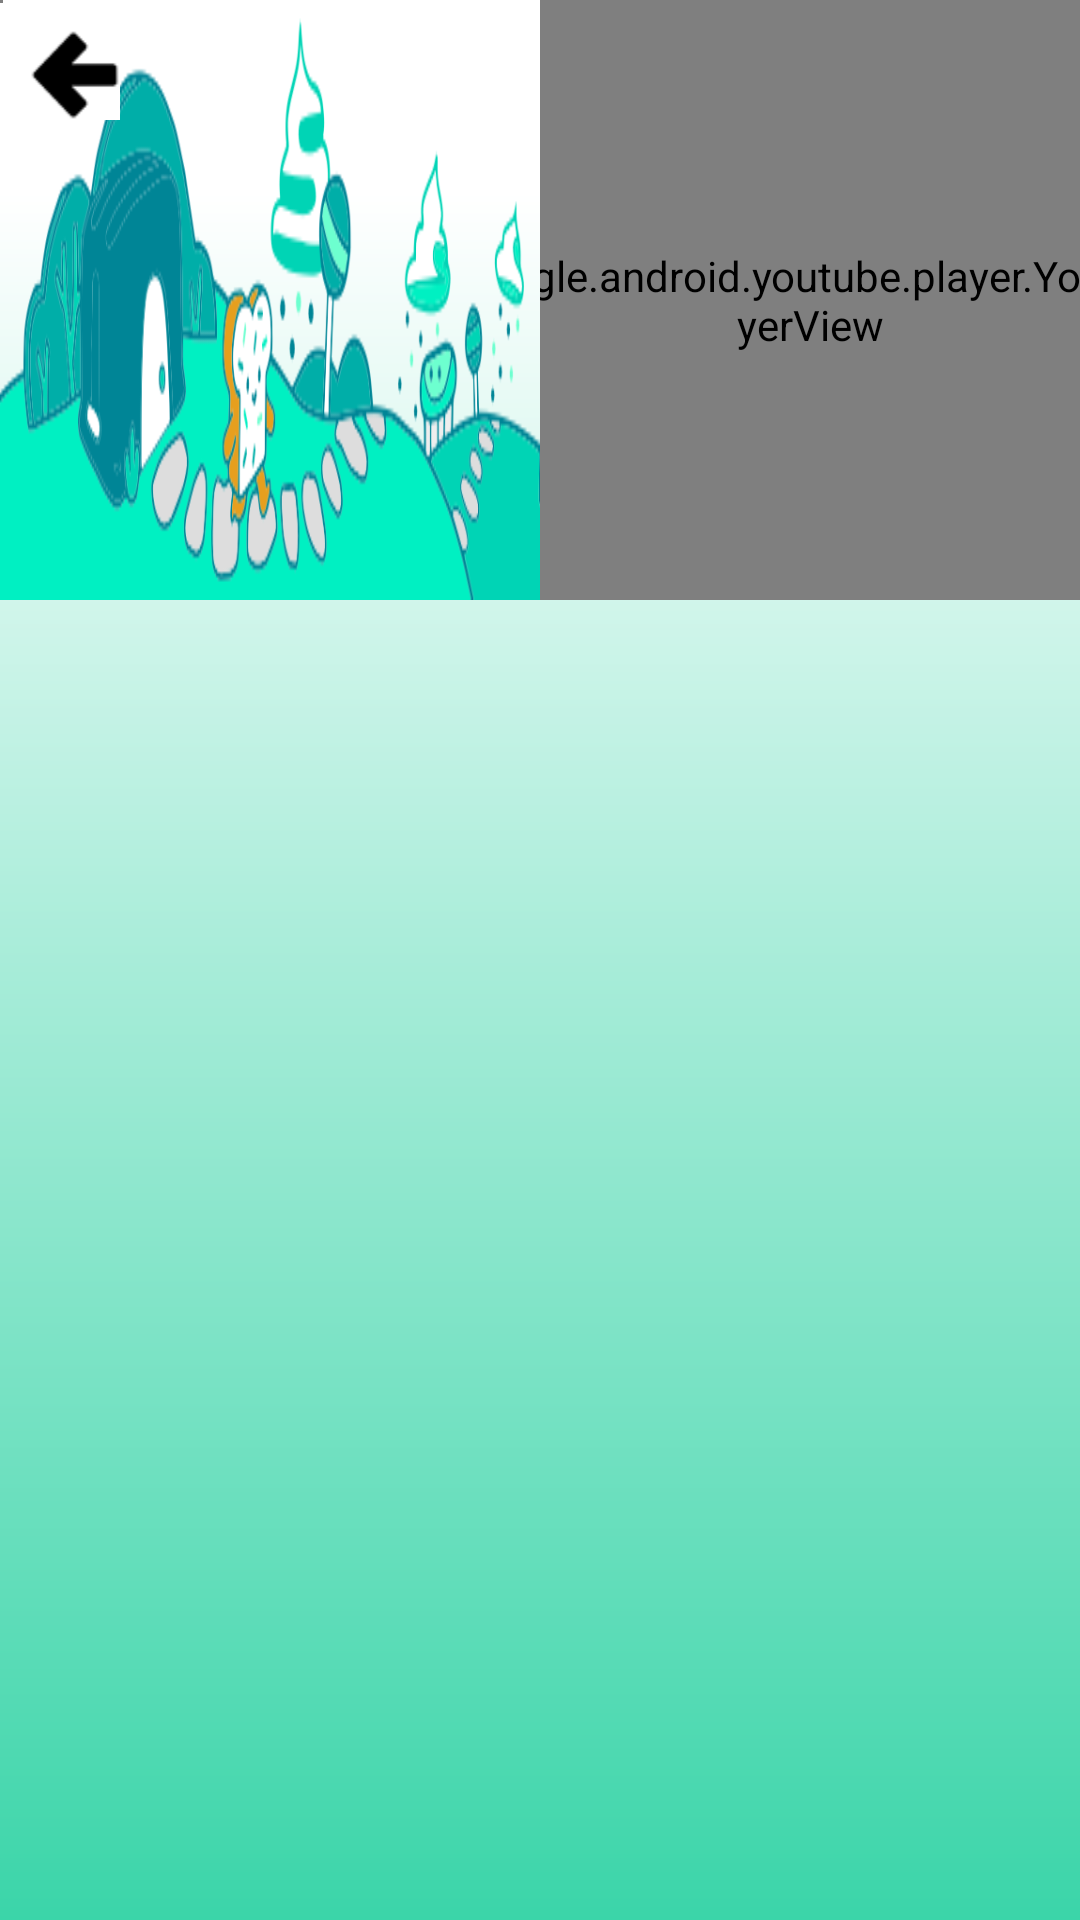

Named icons in this screenshot (1080 × 1920) and their centers, (x,y):
back kids: (75,75)
